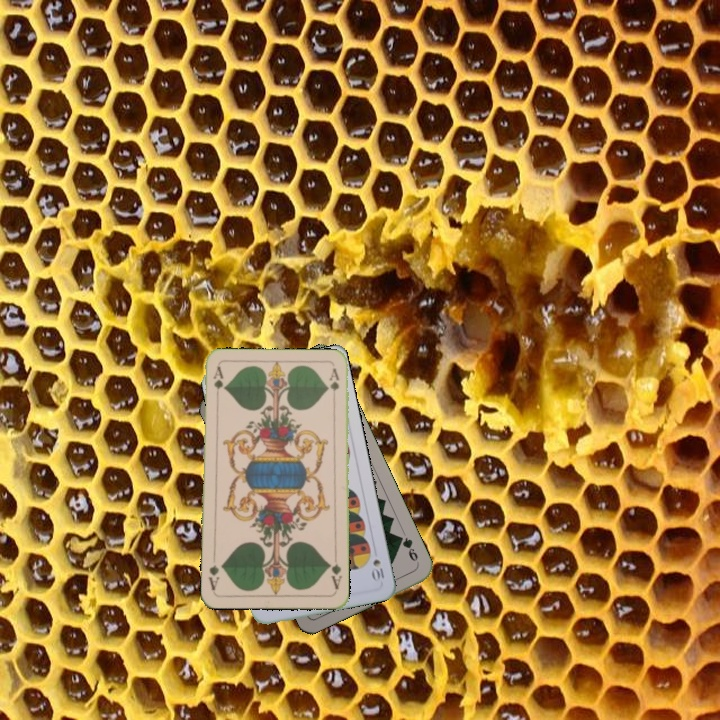G9: (394, 532, 422, 568)
GA: (209, 363, 225, 404), (325, 560, 344, 592)
S10: (368, 555, 387, 584)
